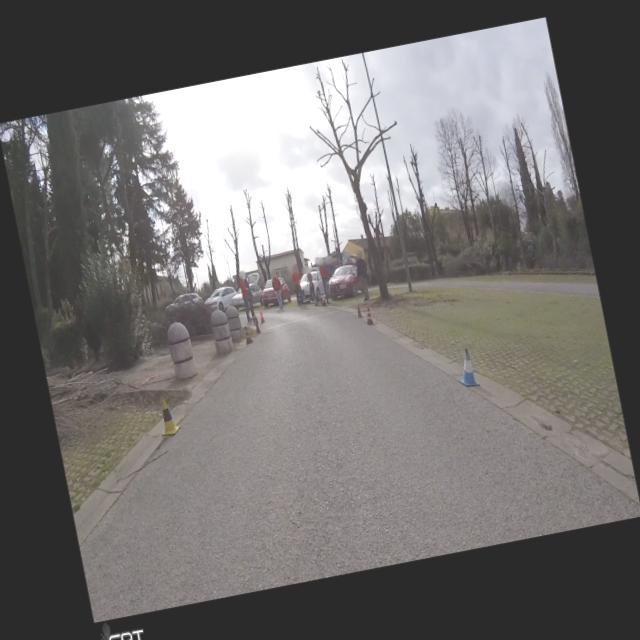blue_cone: (454, 348, 481, 390)
large_orange_cone: (242, 326, 254, 344), (364, 308, 374, 326)
orange_cone: (258, 312, 266, 323)
unknown_cone: (354, 304, 364, 318), (254, 321, 262, 334)
yellow_cone: (154, 394, 182, 436)
